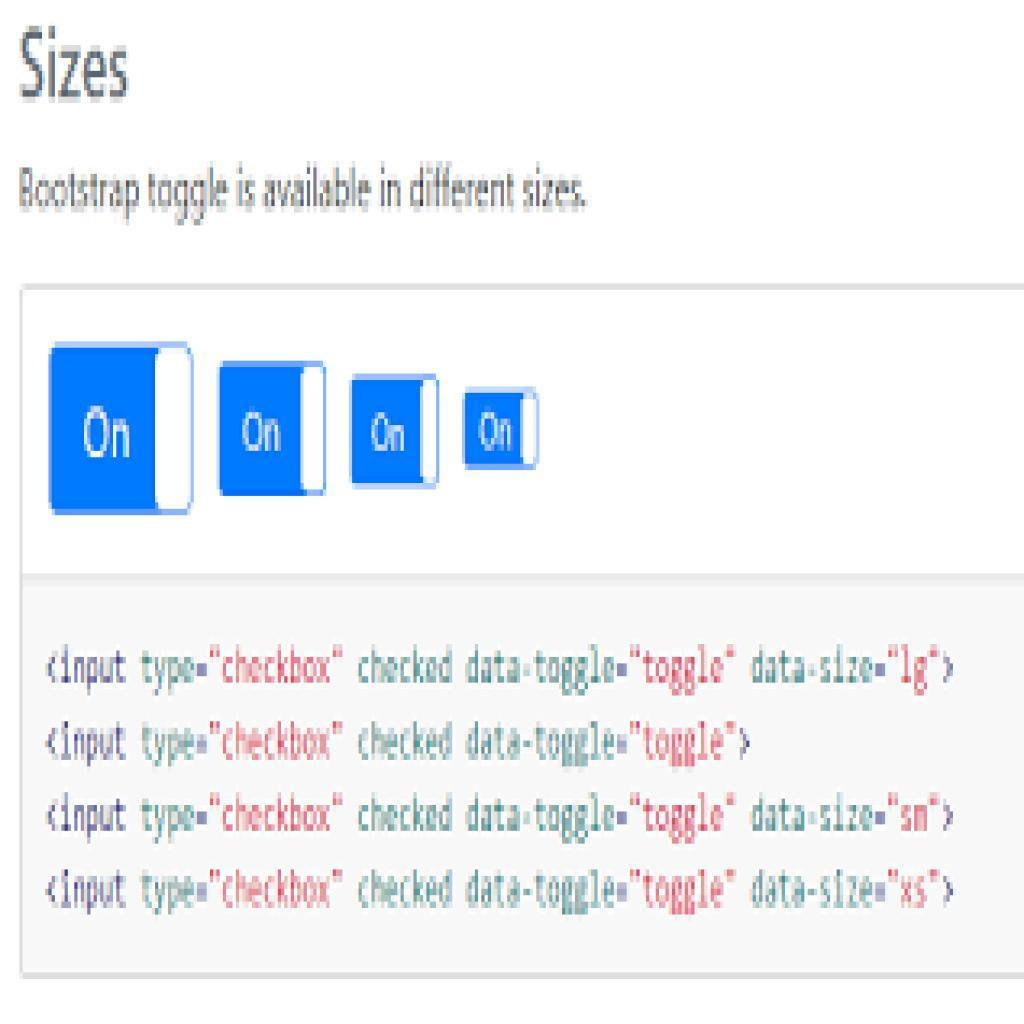switch: (48, 348, 197, 516), (215, 362, 327, 500), (352, 377, 448, 486), (467, 385, 543, 474)
